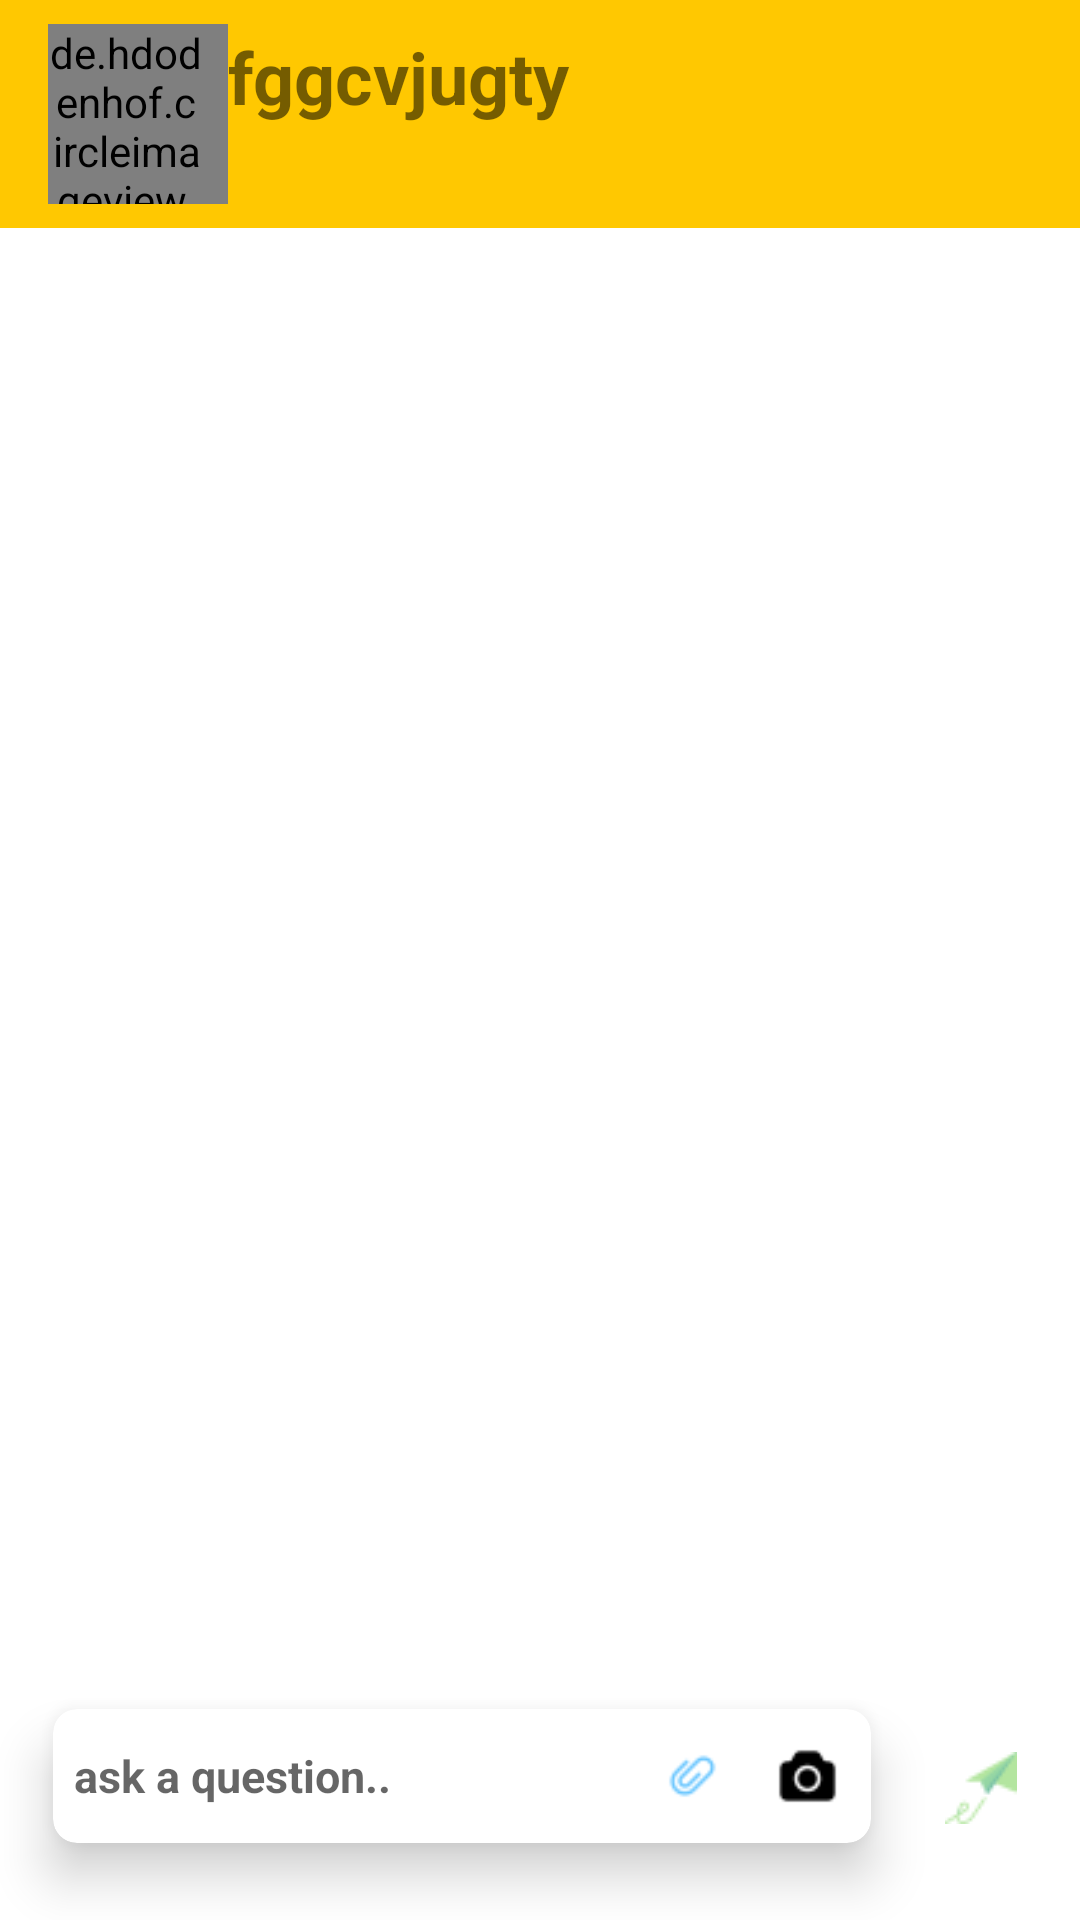

Locate icon controls on the screen. Image size 1080px x 1920px, boxes as (left=x1, top=y1, right=x2, bottom=y2).
camera: (left=779, top=1750, right=836, bottom=1802)
paperclip: (left=669, top=1755, right=716, bottom=1797)
send: (left=945, top=1752, right=1017, bottom=1824)
